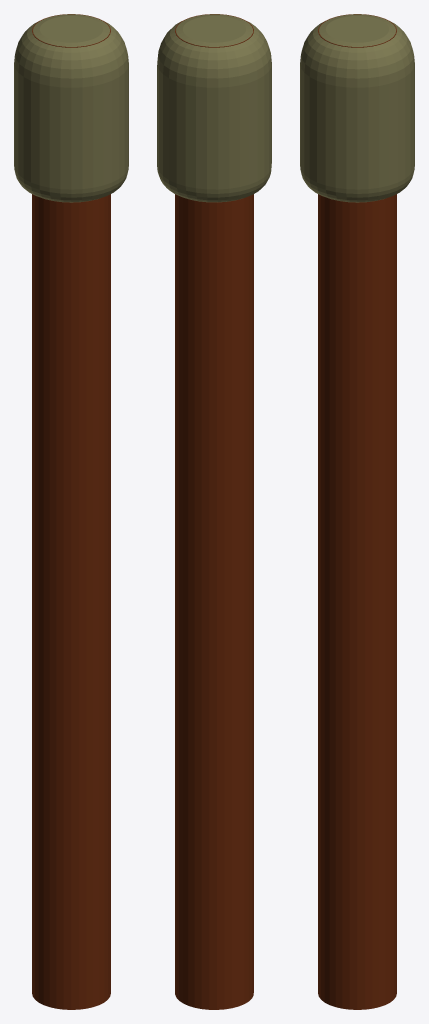
Rendered from torch.fbx.
The picture shows the model from 3 angles, left to right: view 1: azimuth 90°, elevation 25°; view 2: azimuth 150°, elevation 25°; view 3: azimuth 270°, elevation 25°; orthographic projection.
Visible parts, largest first — view 1: Torch; view 2: Torch; view 3: Torch.
Boxes of the visible parts, left/top/right/bottom form: Torch: left=14, top=14, right=128, bottom=1009; Torch: left=157, top=14, right=271, bottom=1009; Torch: left=300, top=14, right=414, bottom=1009.
Bounding box in the file's own units: 54.87 × 54.87 × 508.
